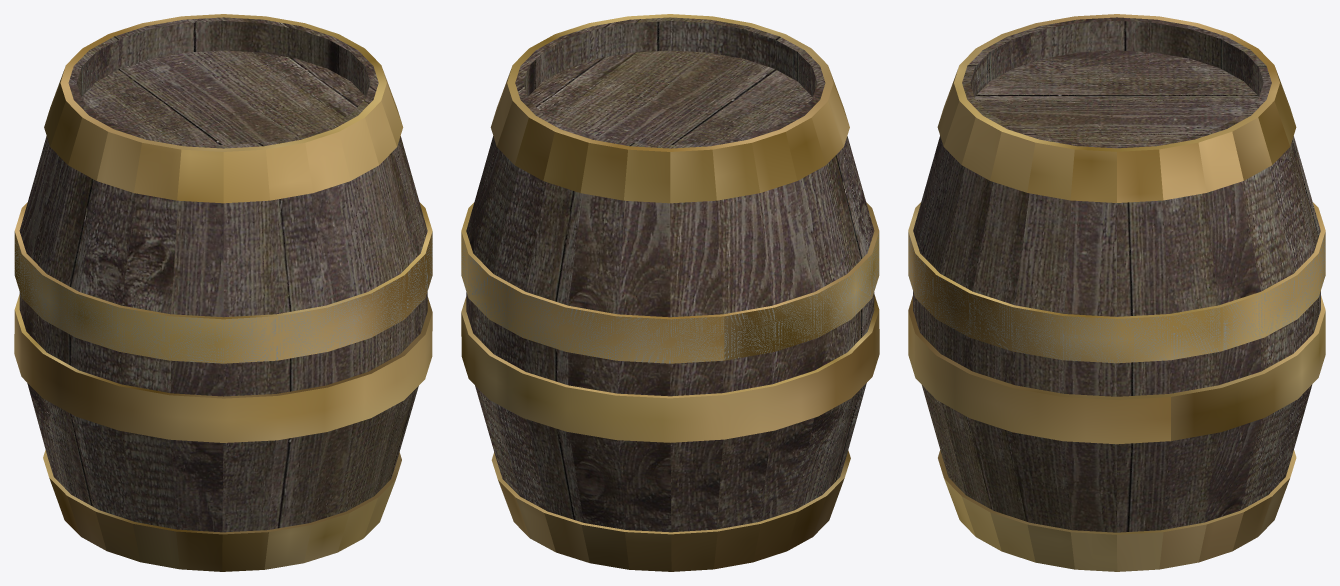
Rendered from barrel.dae.
3 renders of one model, left to right at view 1: azimuth 30°, elevation 25°; view 2: azimuth 150°, elevation 25°; view 3: azimuth 270°, elevation 25°, orthographic.
Visible parts, largest first — view 1: SketchUp (×9); view 2: SketchUp (×9); view 3: SketchUp (×9).
Boxes of the visible parts, x1,y1,x2,y2 form: SketchUp (×9): [14, 14, 432, 571]; SketchUp (×9): [461, 14, 879, 571]; SketchUp (×9): [908, 14, 1325, 571].
Size of the model in its own units: 10.09 by 10.08 by 11.21.
3 materials, 2 textured.
